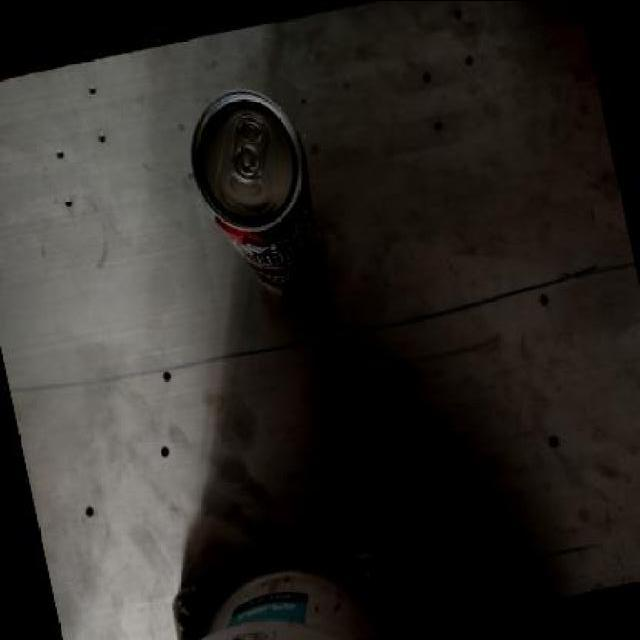can: (158, 62, 339, 316)
